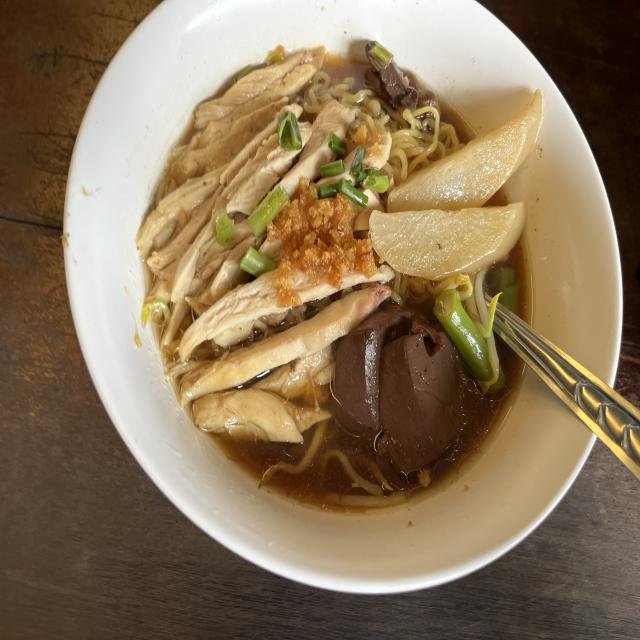boiled_chicken_blood_jelly: (329, 300, 474, 467)
chicken_shredded: (148, 53, 348, 450)
daikon_radish: (382, 94, 544, 276)
noodle: (135, 37, 544, 508)
